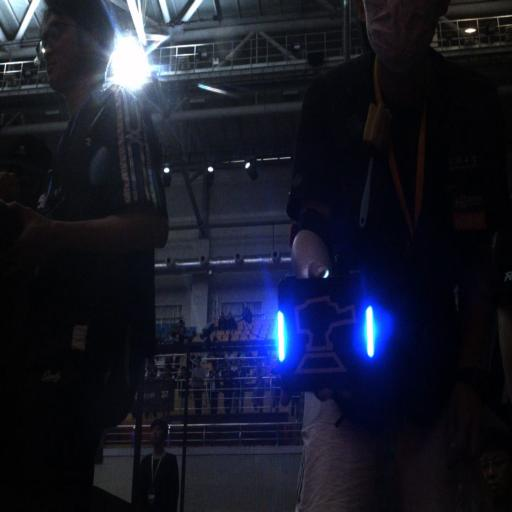target: (273, 279, 378, 389)
